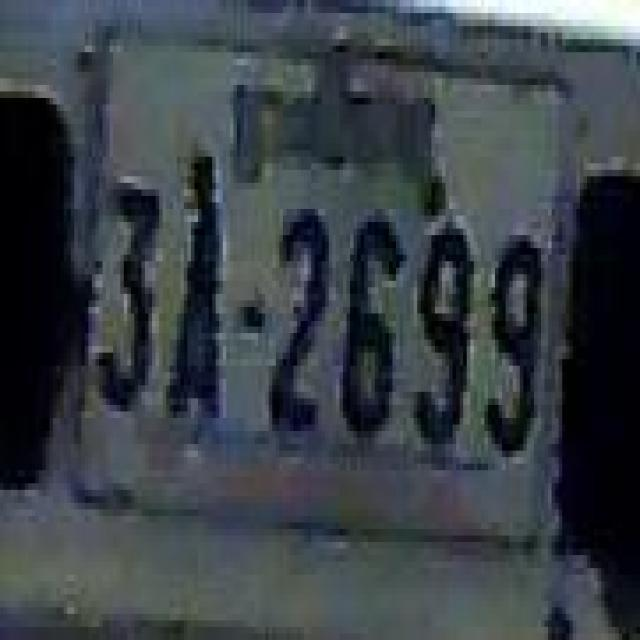Preah_Sihanouk: (230, 52, 440, 206)
